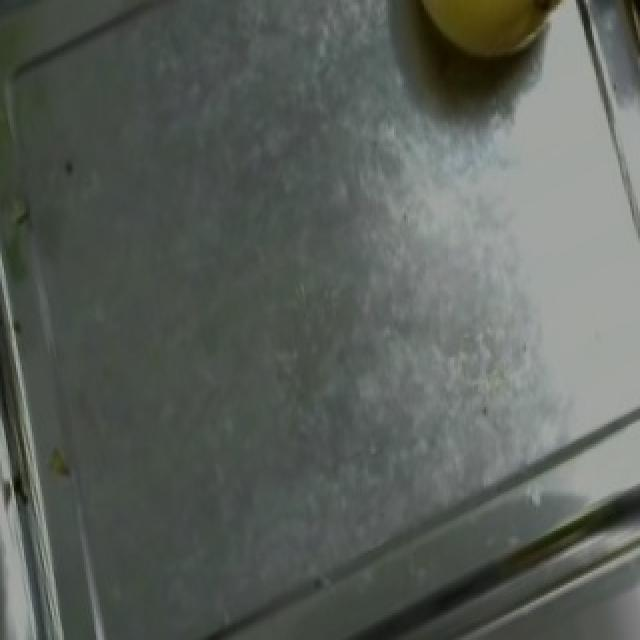fruit: (376, 0, 568, 82)
